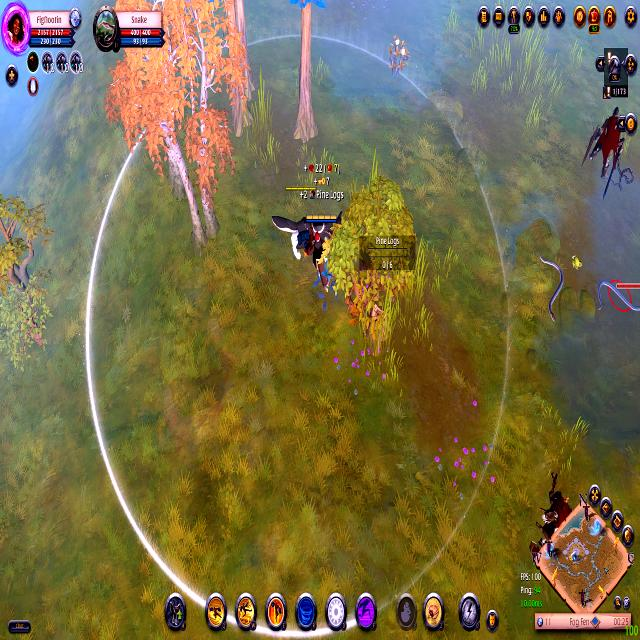hide: (385, 33, 413, 82)
ore: (520, 461, 584, 560), (573, 101, 638, 190)
red: (304, 208, 350, 307)
wisp caged: (109, 0, 251, 247), (284, 0, 329, 148)
